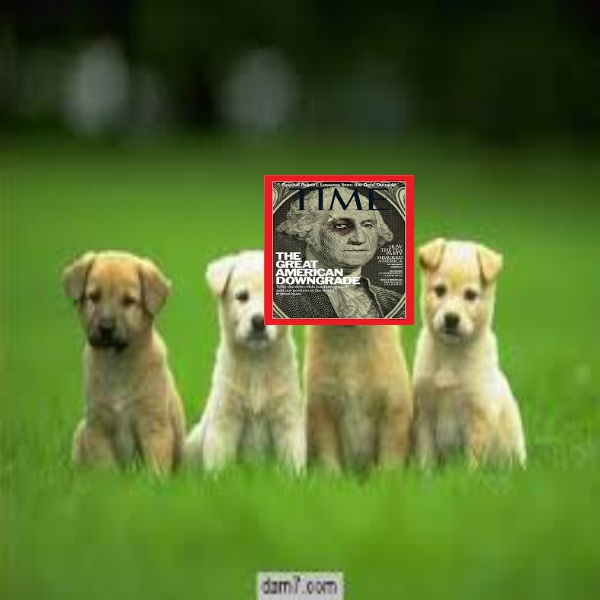time_cover: (255, 167, 424, 331)
